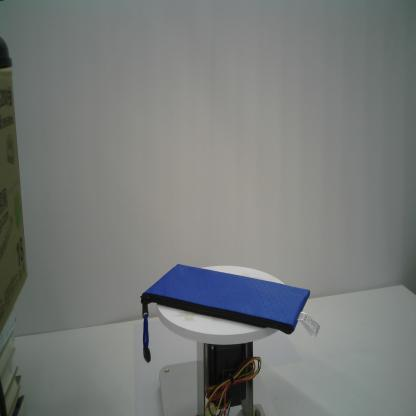Stationery: (138, 263, 320, 365)
